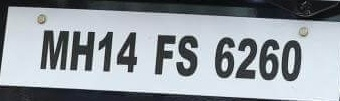character: (38, 27, 70, 72), (67, 29, 96, 73), (152, 33, 178, 76), (233, 37, 258, 81), (174, 34, 199, 77), (213, 35, 236, 79), (115, 30, 139, 72), (257, 37, 279, 82), (280, 39, 303, 82), (96, 30, 115, 72)
